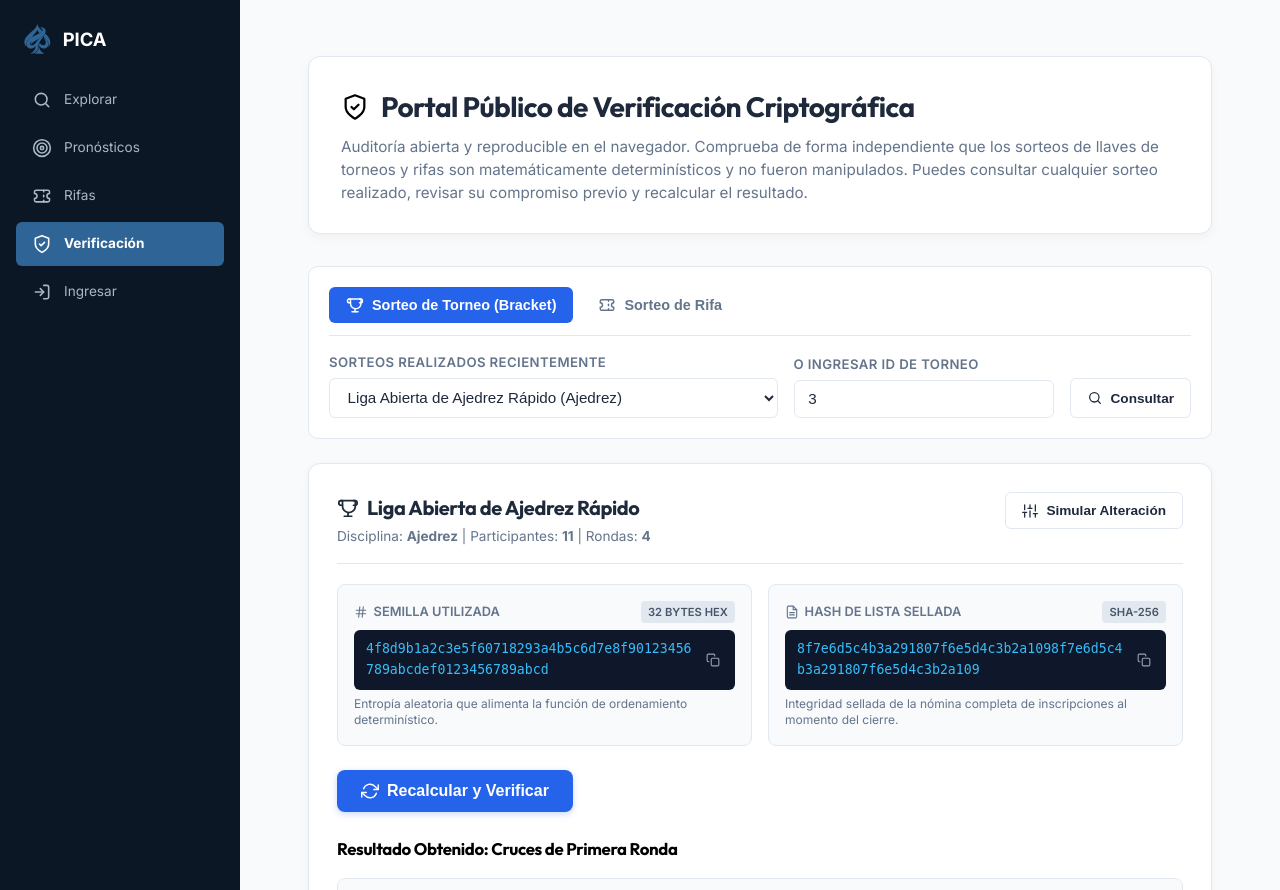
Scenario: HU-505 / T505-1: Portal Público de Verificación (Integración) › Criterio 1: Permite acceder al portal sin estar autenticado y consultar el sorteo de un torneo
Expected: the heading "Portal Público de Verificación Criptográfica" is shown, [381,85,915,128]
Expected: the heading "Liga Abierta de Ajedrez Rápido" is shown, [337,492,651,523]
// En la pestaña de rifas se carga la última rifa sorteada
Click the button with test id "tab-rifa" at (660, 305), box [582,287,739,323]
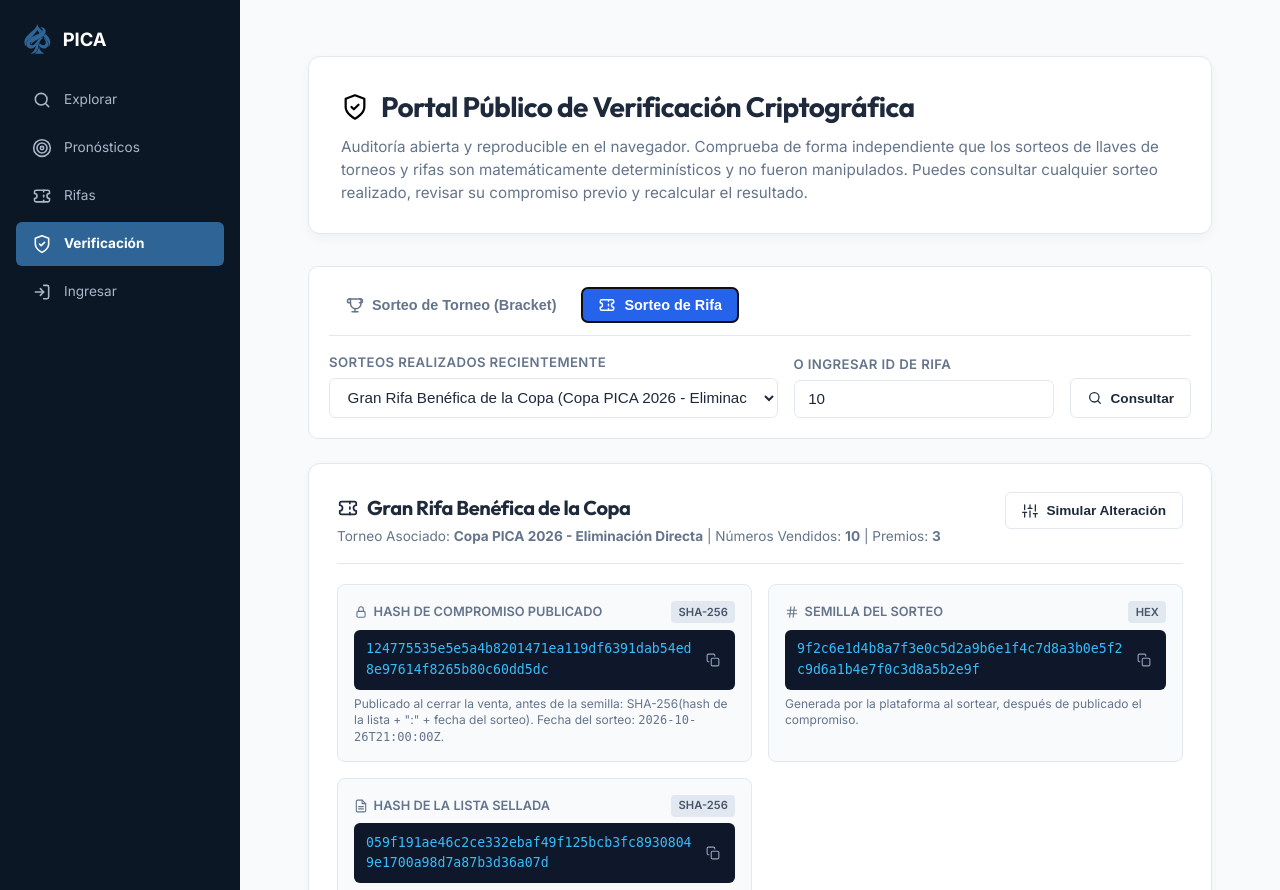
Expected: the text "Gran Rifa Benéfica de la Copa" is shown, [367,492,630,523]
